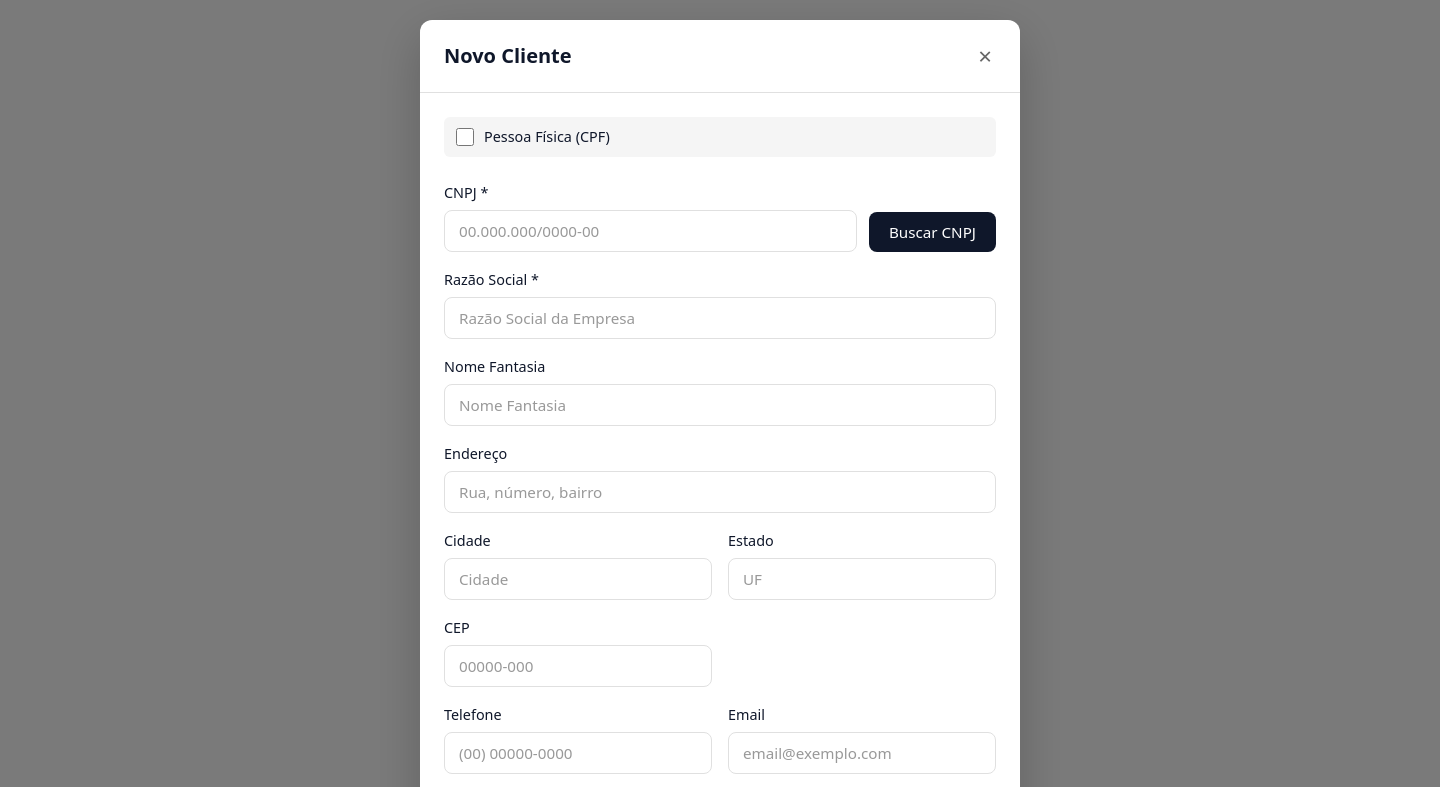
ClienteModal › deve mostrar erro se CNPJ tiver menos de 14 dígitos
Step 1. Type "123456" into the field with placeholder "00.000.000/0000-00" → (650, 231), box [444,210,857,252]
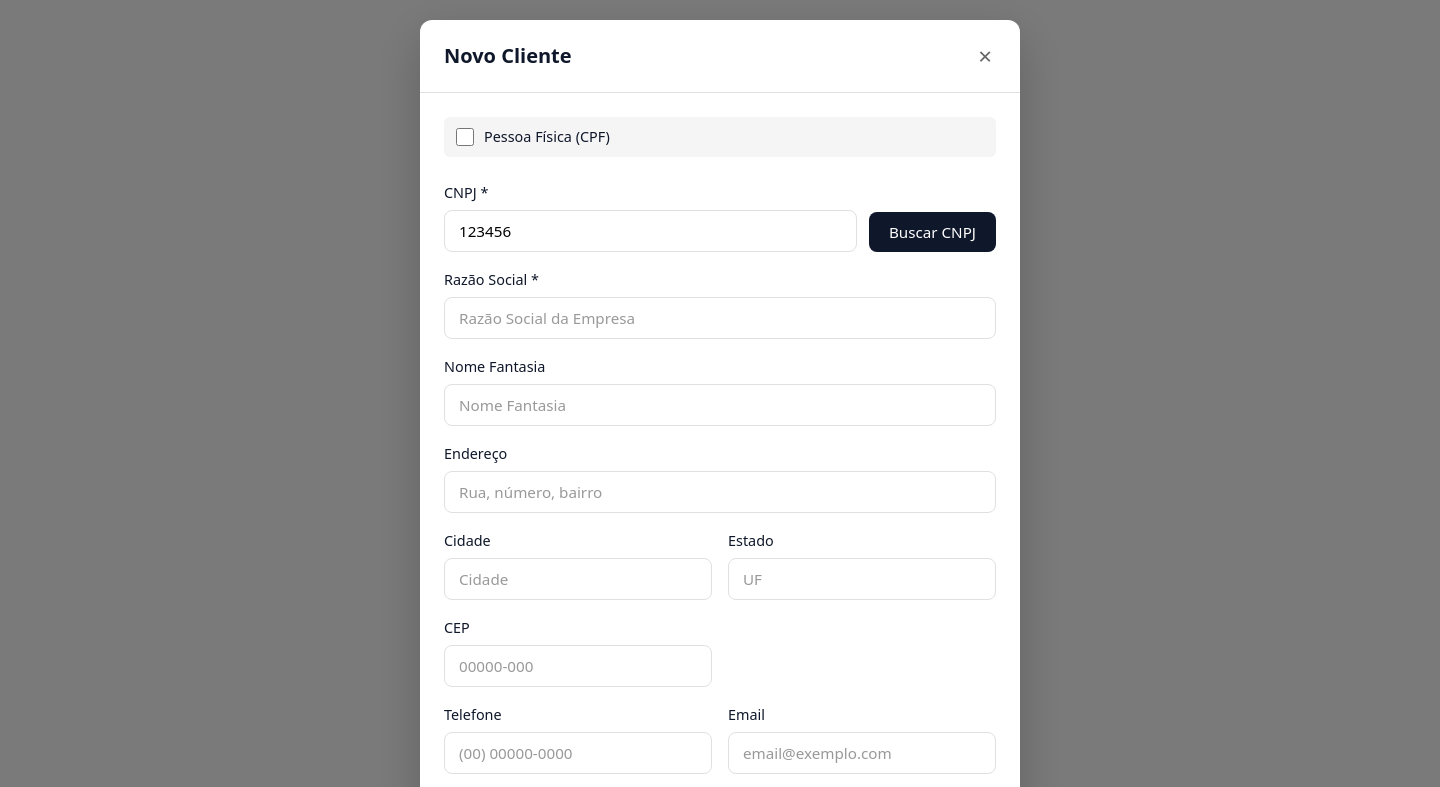
Step 2. Click the button "Buscar CNPJ" → click(932, 232), box [869,212,996,252]
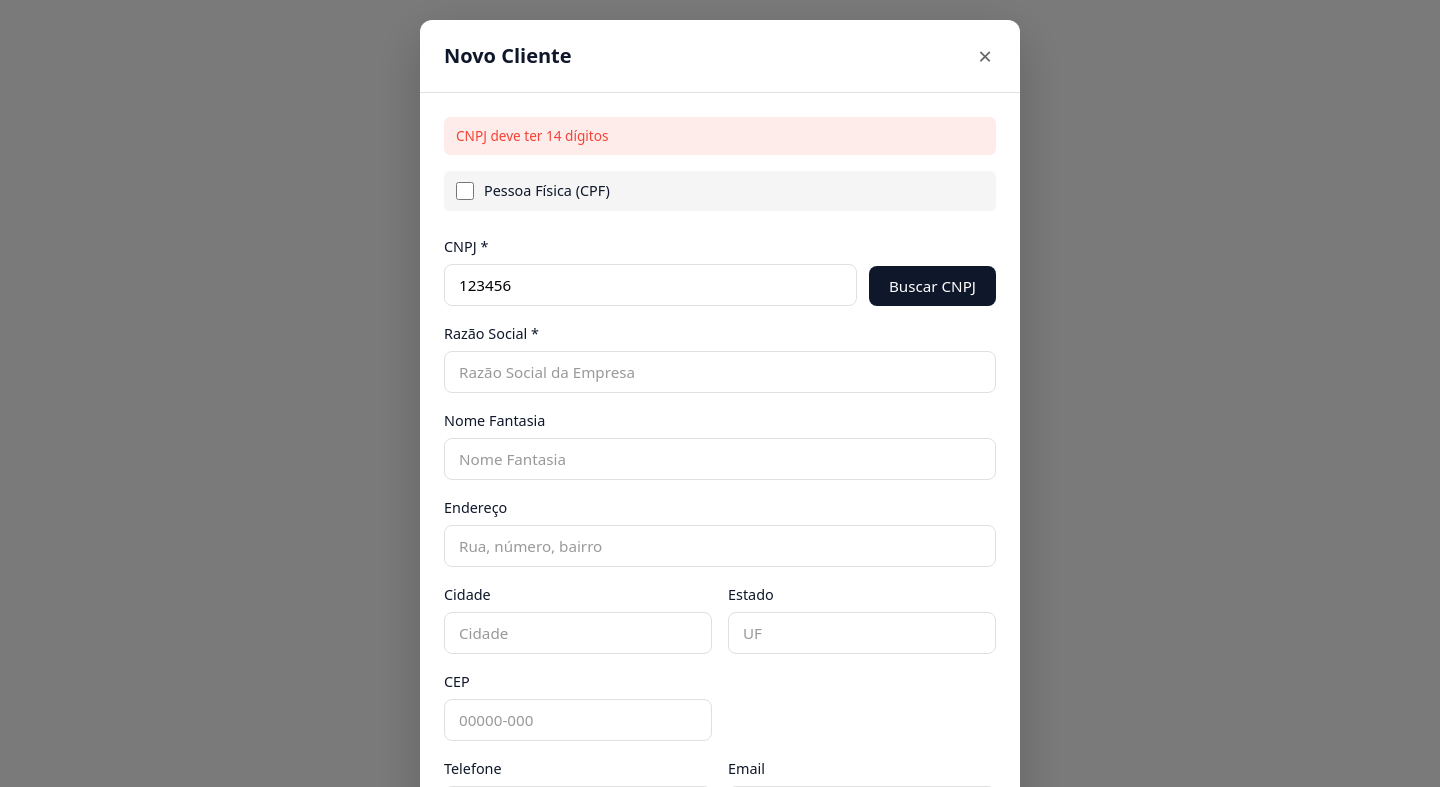
Now the text "CNPJ deve ter 14 dígitos" is shown, box [444,117,996,155]
